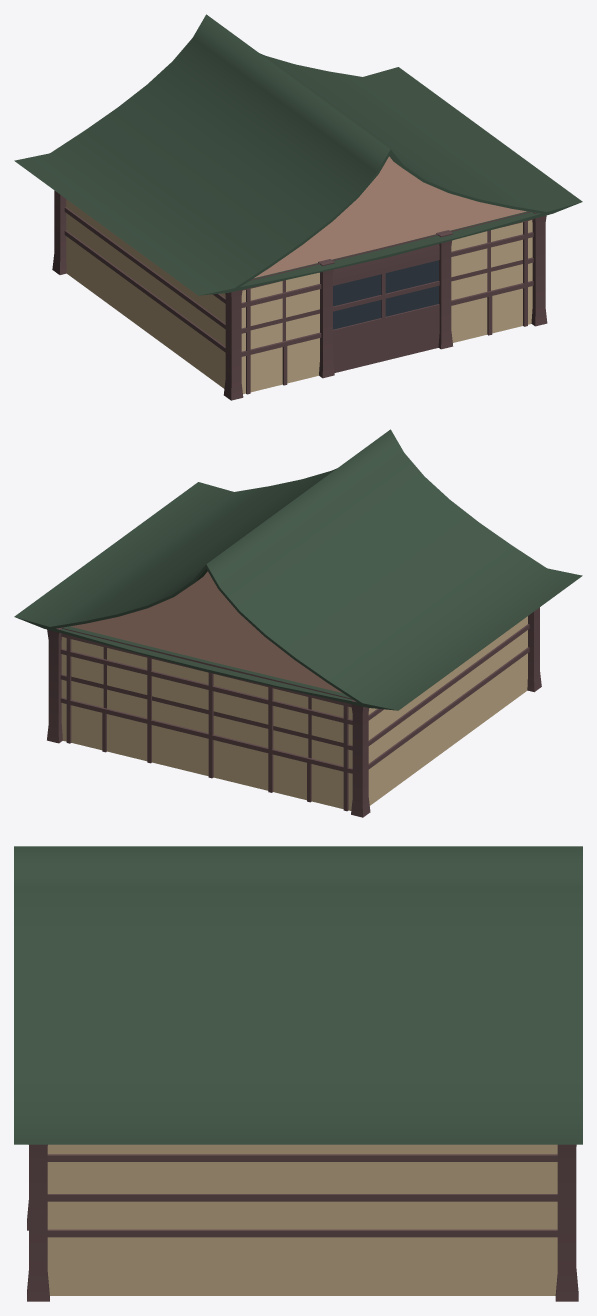
Rendered from House.FBX.
The picture shows the model from 3 angles, top to bottom: view 1: azimuth 30°, elevation 25°; view 2: azimuth 150°, elevation 25°; view 3: azimuth 270°, elevation 25°; orthographic projection. The views are drawn at different scales.
Visible parts, largest first — view 1: House; view 2: House; view 3: House.
Boxes of the visible parts, x1,y1,x2,y2 form: House: [14, 14, 582, 400]; House: [14, 429, 582, 817]; House: [14, 846, 582, 1301].
Size of the model in its own units: 91.32 by 49.18 by 75.83.
Materials: 1 (1 with a texture image).
